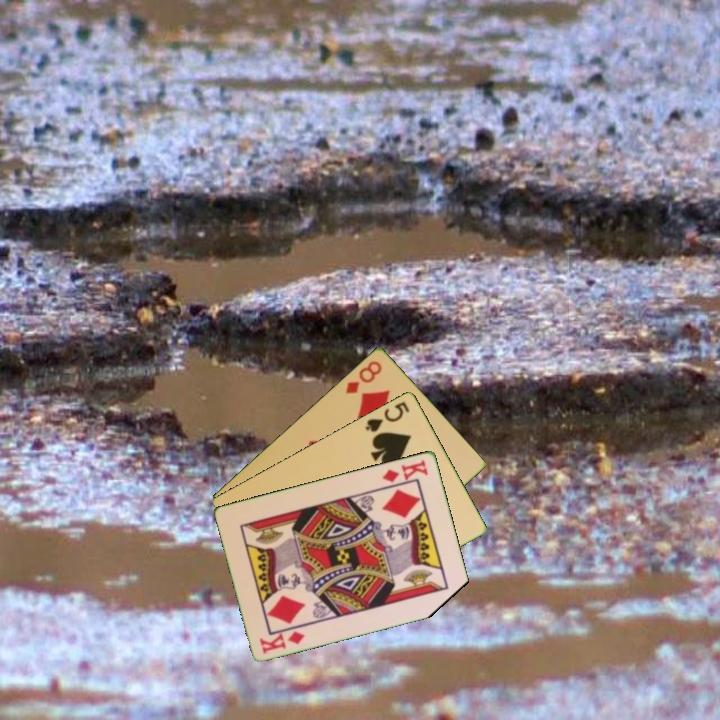5s: (362, 397, 413, 435)
8d: (342, 357, 385, 397)
Kd: (379, 456, 431, 485), (256, 627, 308, 656)
